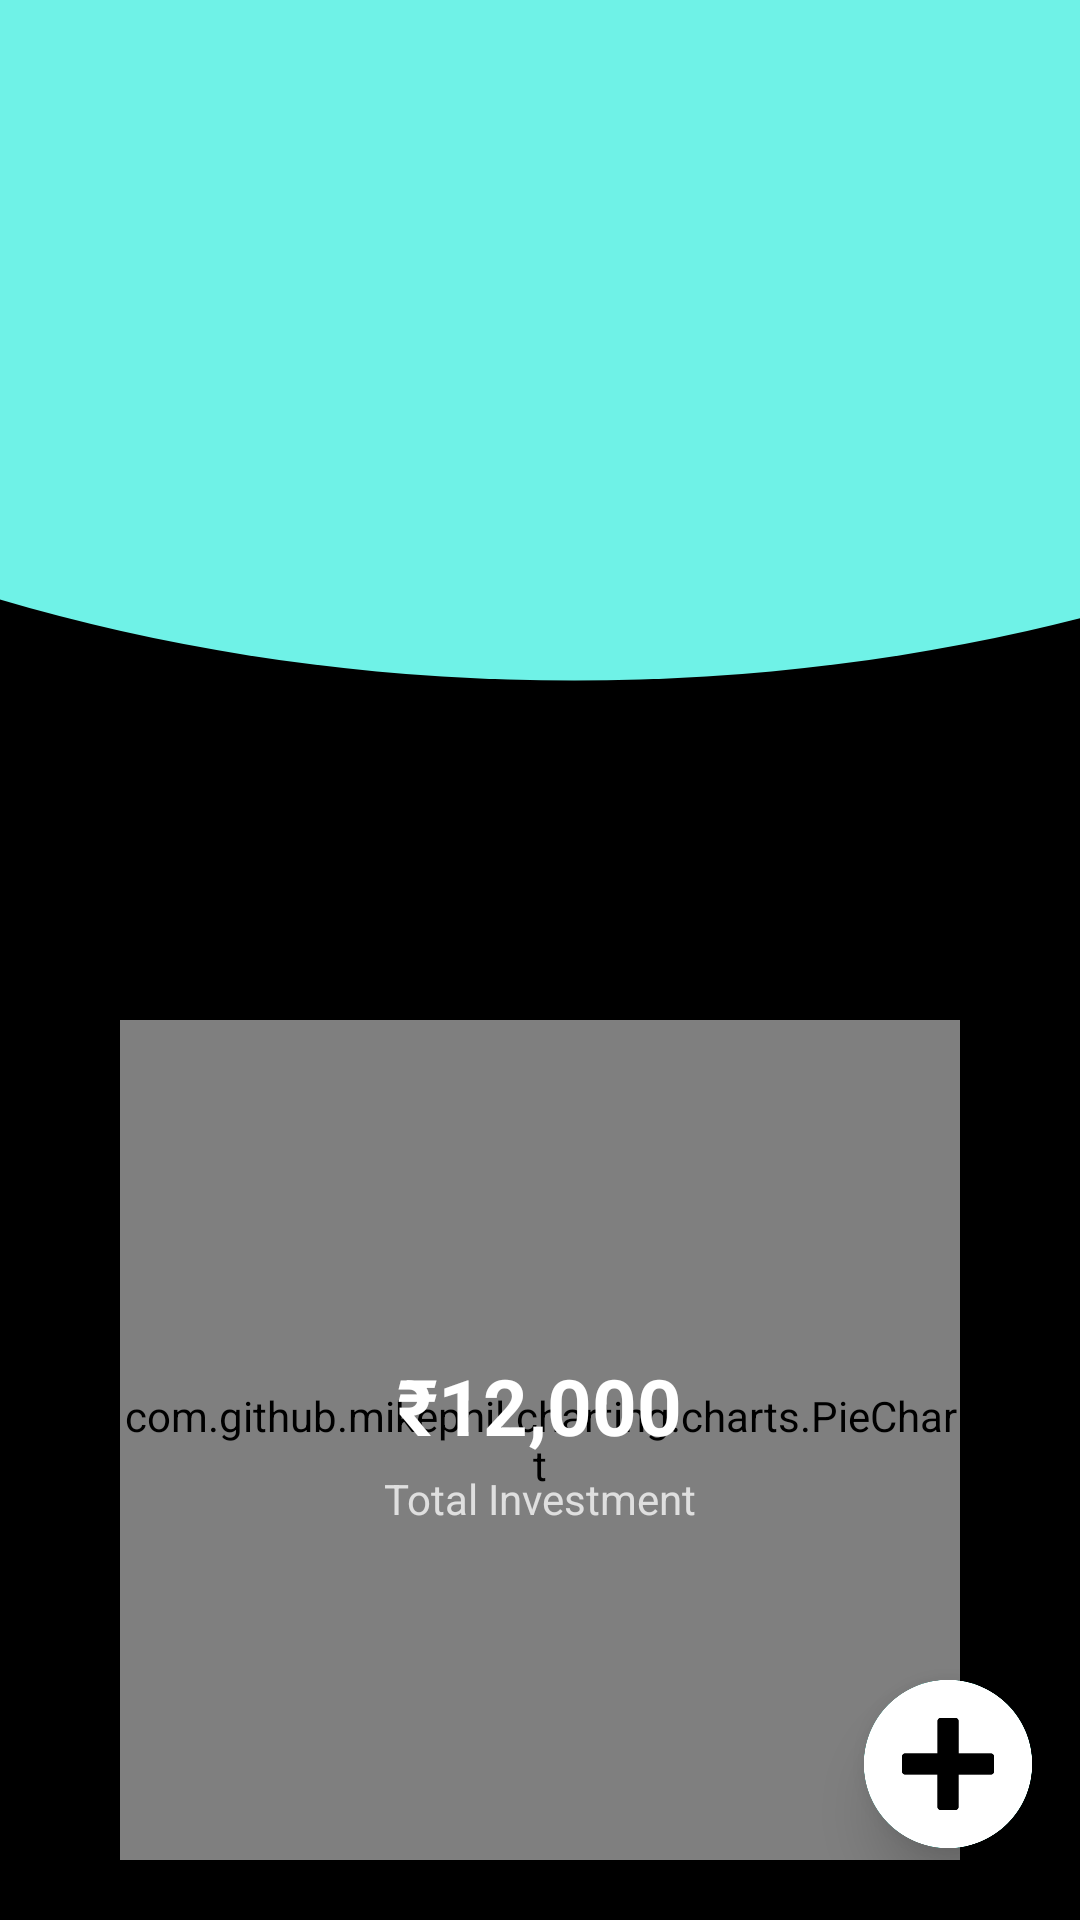

Icons on this 1080px x 1920px Android screen, each with the point to tap as [x,y]:
add: [948,1764]
